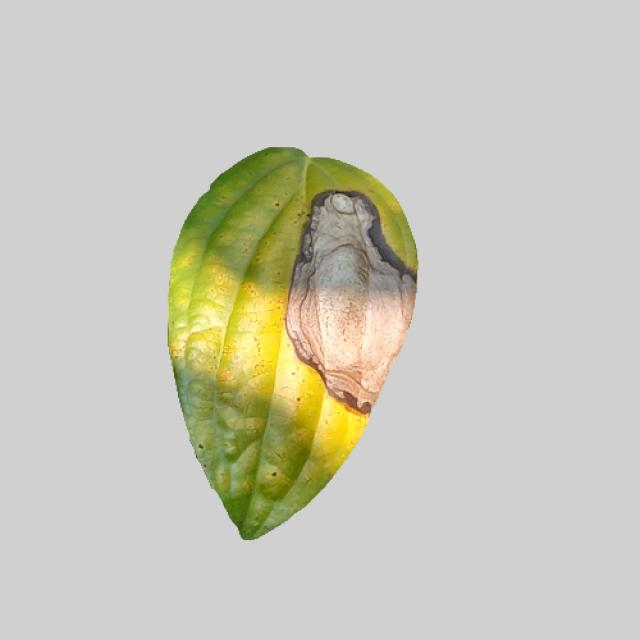leaf-blight: (160, 150, 422, 536)
